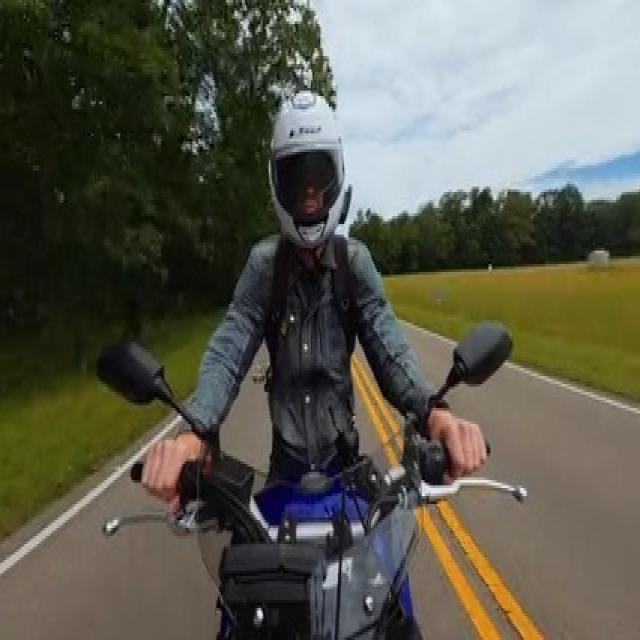Helmet_Wearer: (252, 84, 361, 256)
Person: (134, 90, 482, 496)
